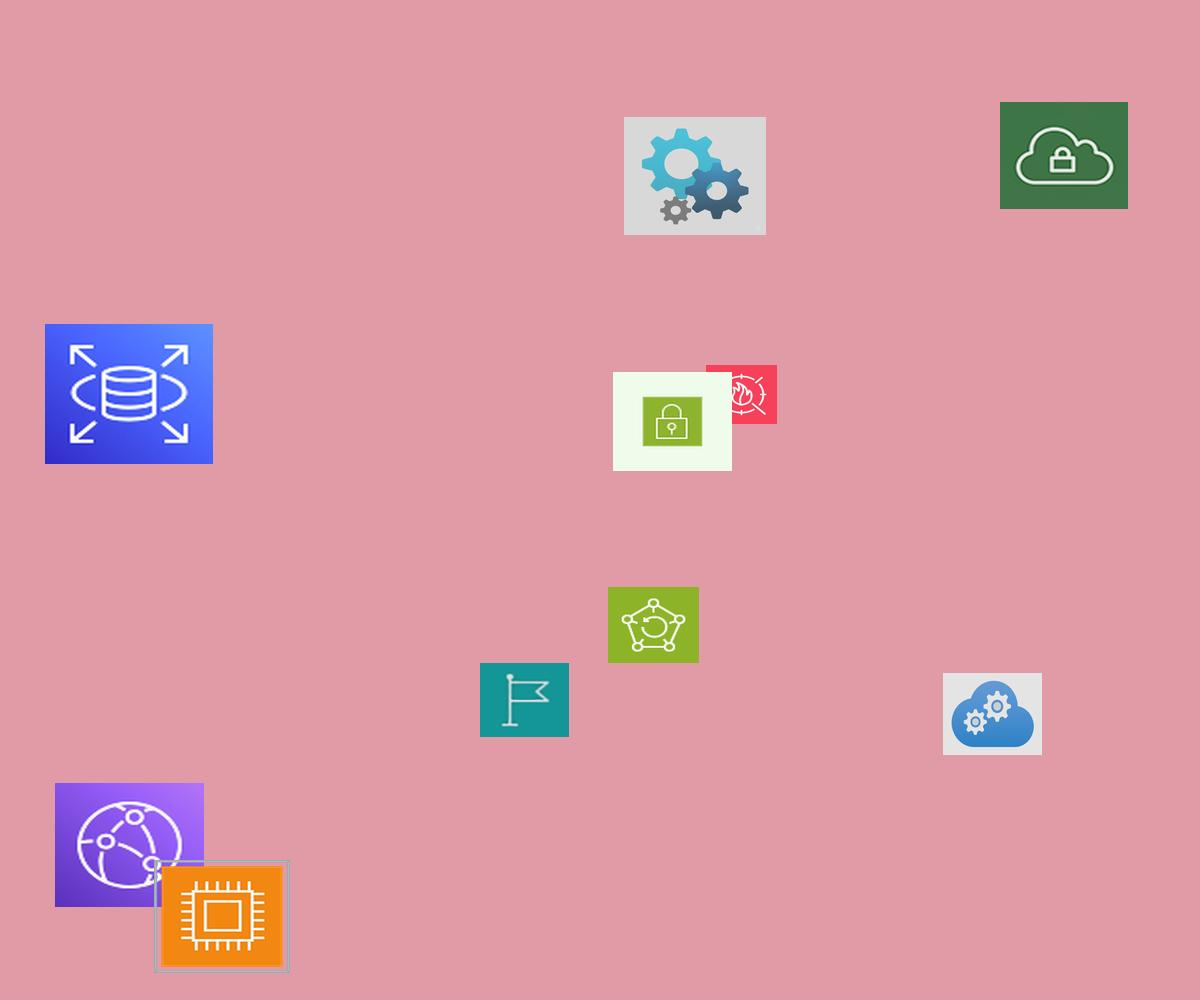AWS-Backup: (608, 587, 699, 663)
AWS-Category_Compute: (154, 860, 290, 973)
AWS-CloudFront: (55, 783, 204, 907)
AWS-Private_vpc: (1000, 102, 1128, 209)
AWS-Public-subnet: (613, 372, 732, 471)
AWS-RDS: (45, 324, 213, 464)
AWS-Region: (480, 663, 569, 737)
AWS-WAF: (706, 365, 777, 424)
Azure_api: (624, 117, 766, 235)
Azure_cloud_services: (943, 673, 1042, 755)
